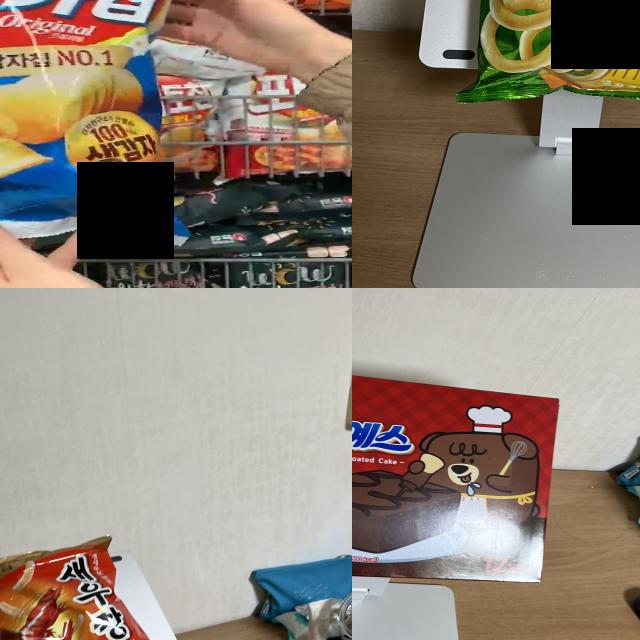ohYes: (352, 361, 553, 584)
onionRing: (458, 0, 640, 98)
pokaChip: (0, 0, 196, 255)
shrimpGGang: (0, 555, 136, 640)
